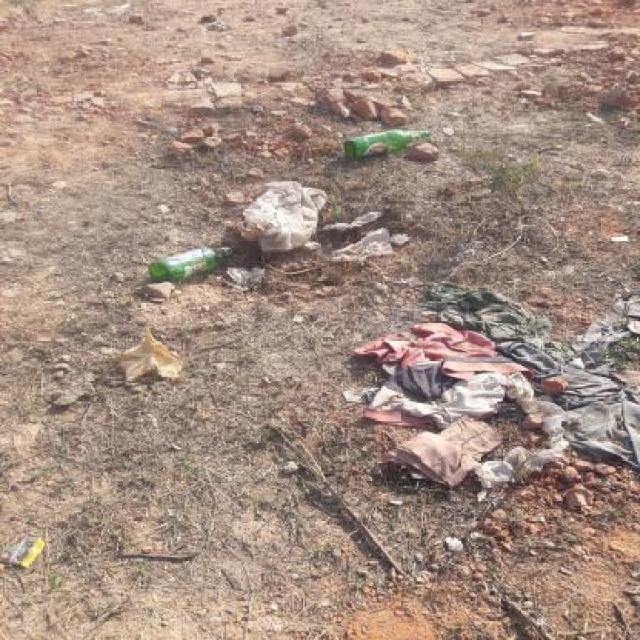garbage: (463, 298, 640, 510), (202, 137, 396, 294), (279, 123, 524, 176), (385, 297, 452, 484), (132, 228, 243, 311), (3, 503, 82, 590)
